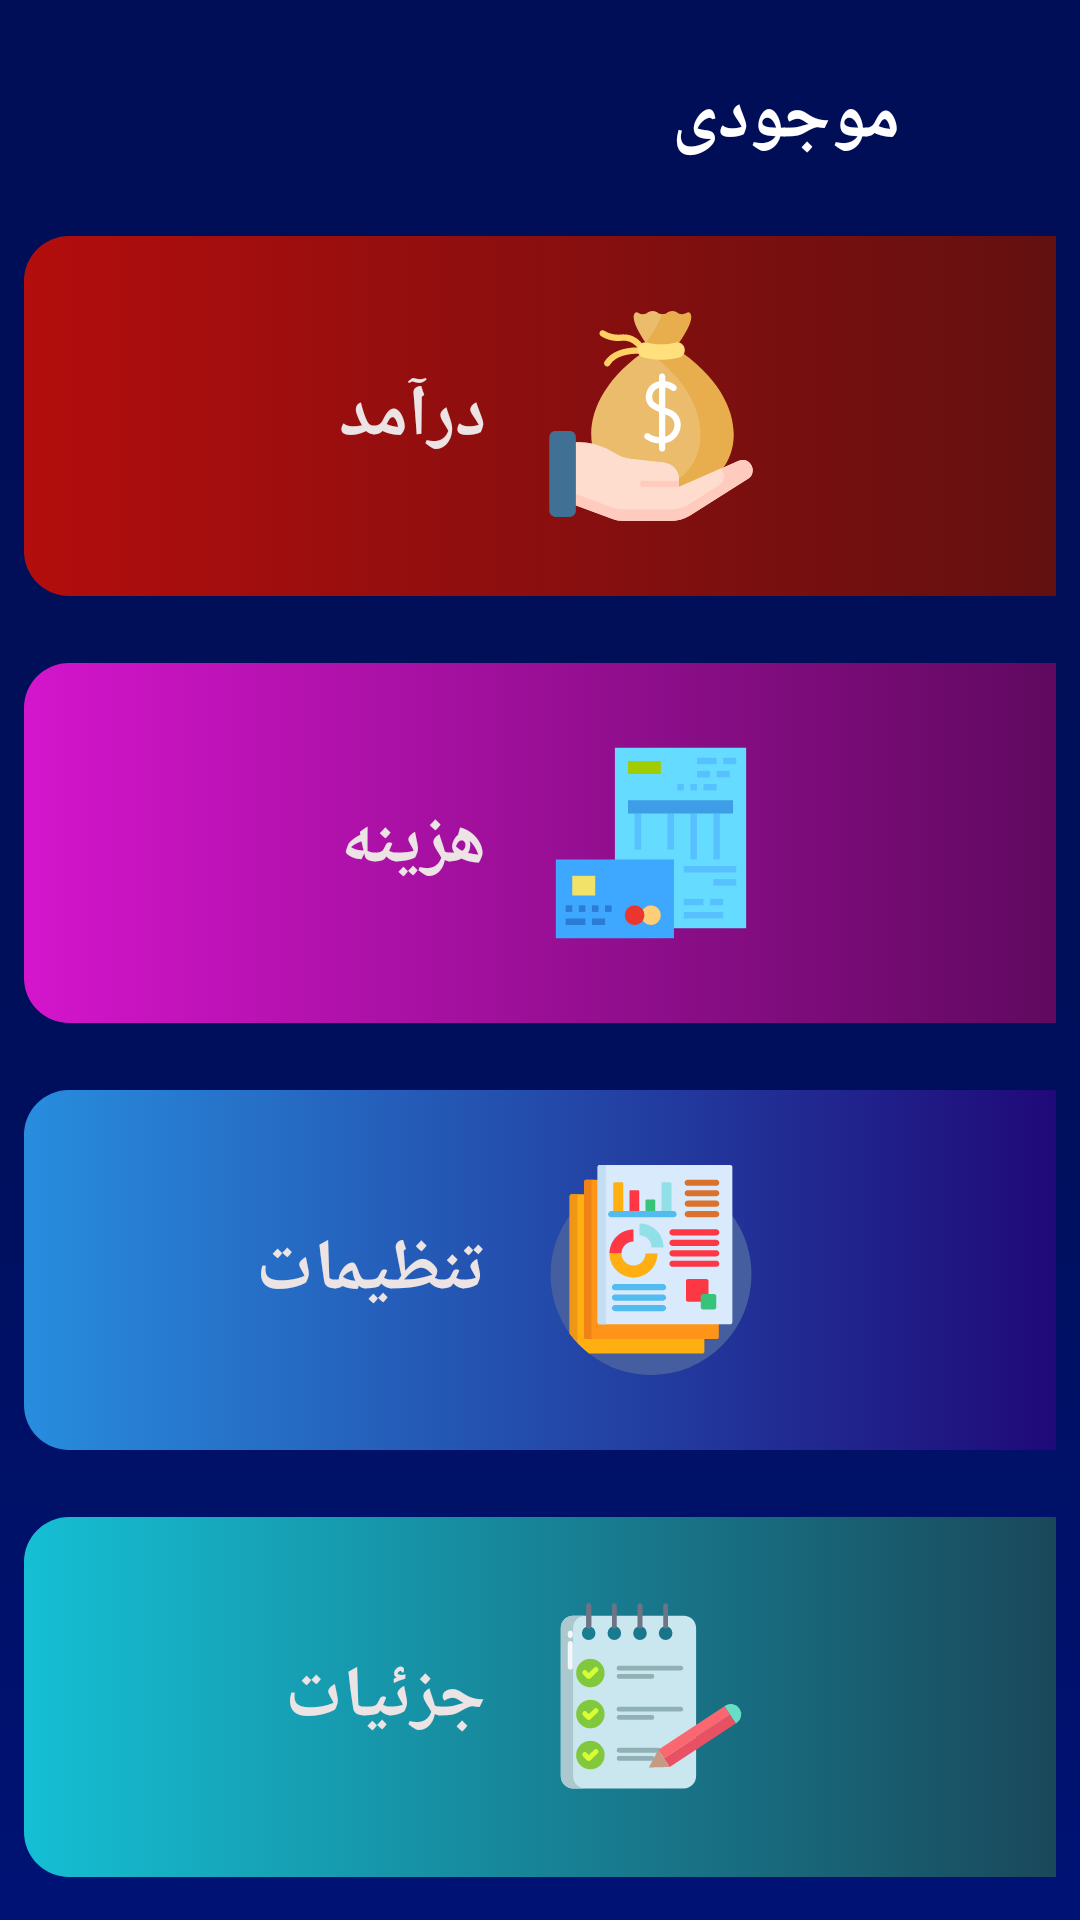

Point at icon controls on the screen. Image size 1080×1920, points as (x=x, y=y).
expense: (x=651, y=843)
income: (x=651, y=416)
list: (x=644, y=1697)
reports: (x=653, y=1270)
